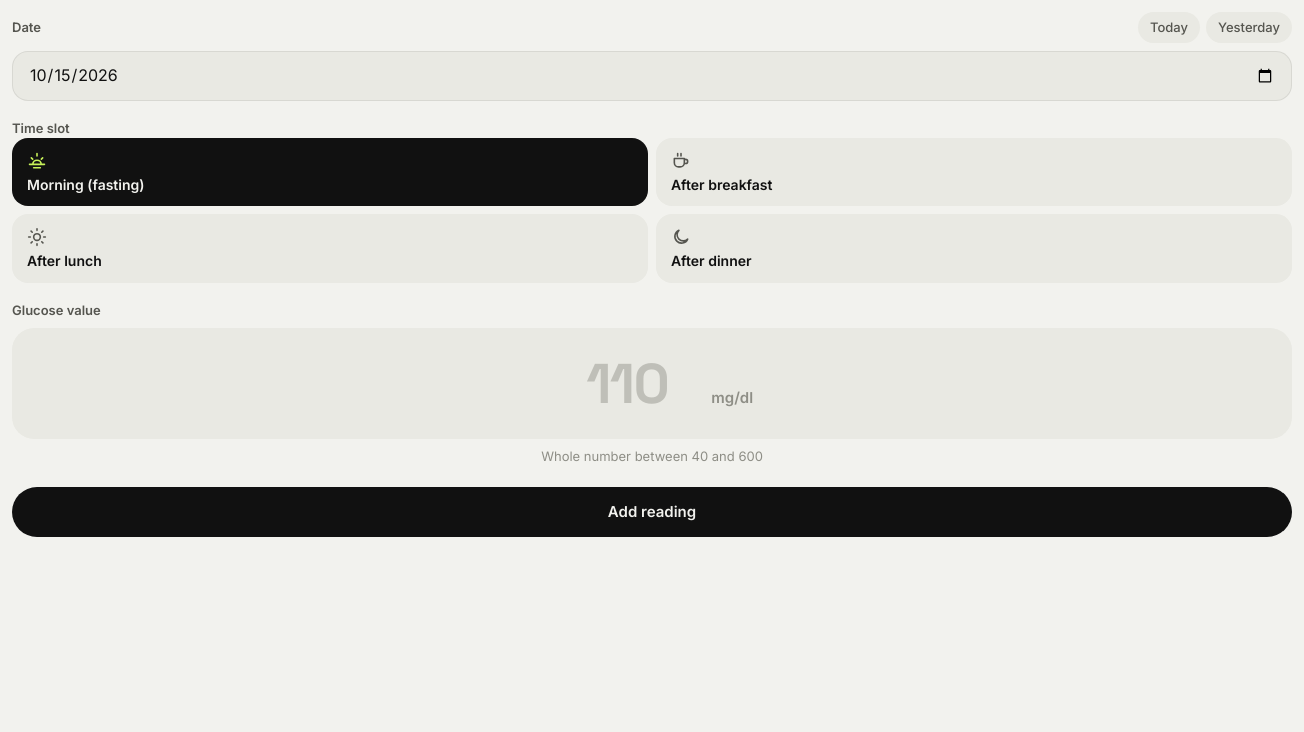
Test: shows "Please enter a glucose value." and does not submit an empty value
Click the button "Add reading" at (652,512), box [12,487,1292,537]
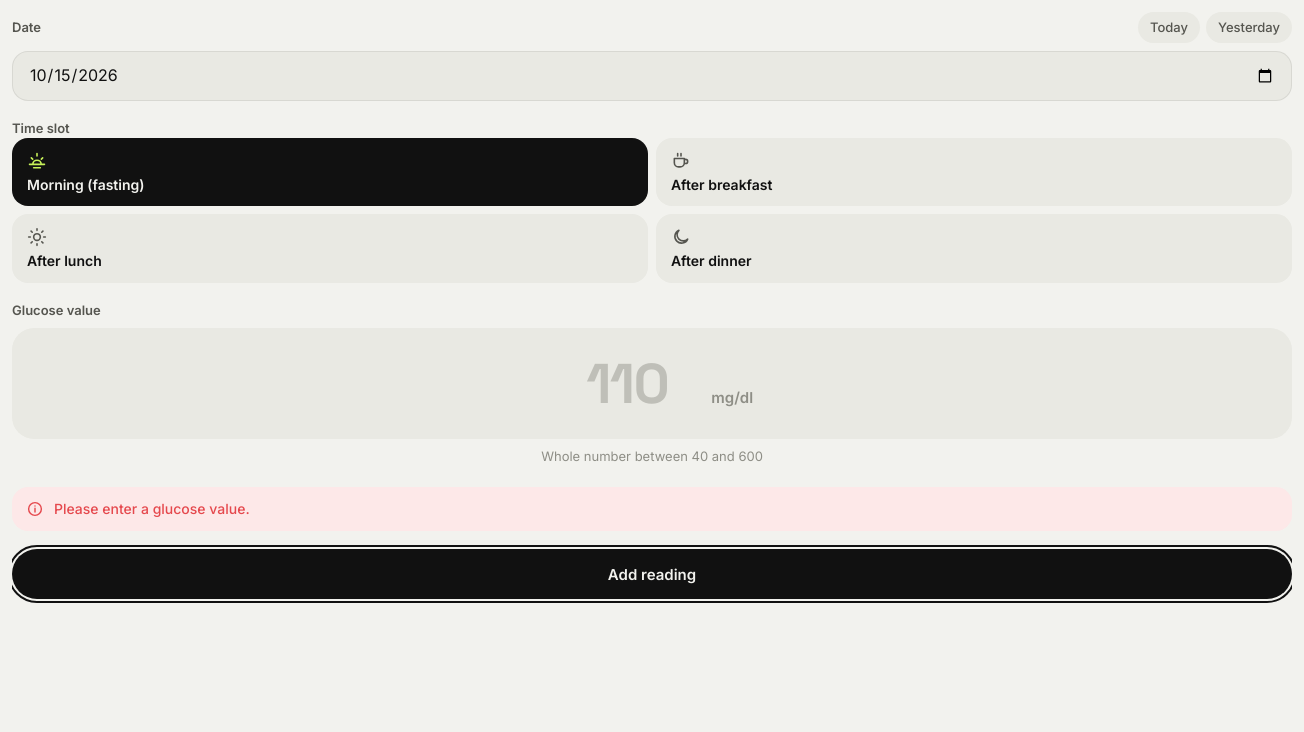
Now the message reads "Please enter a glucose value.", box [54,500,250,517]
